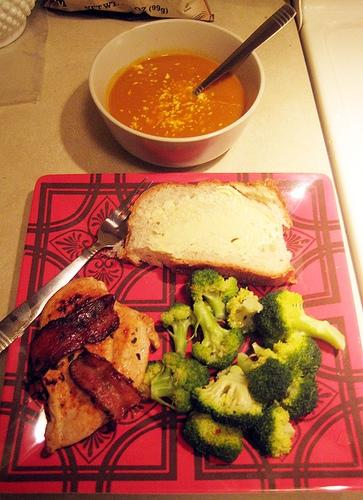broccoli: (251, 290, 345, 351), (190, 365, 264, 431), (150, 352, 210, 413), (192, 302, 244, 370), (182, 410, 244, 463), (238, 349, 293, 408), (242, 403, 296, 458), (186, 268, 239, 321), (272, 334, 322, 378), (161, 302, 198, 359), (279, 371, 318, 419), (226, 286, 263, 330), (138, 360, 164, 392)
